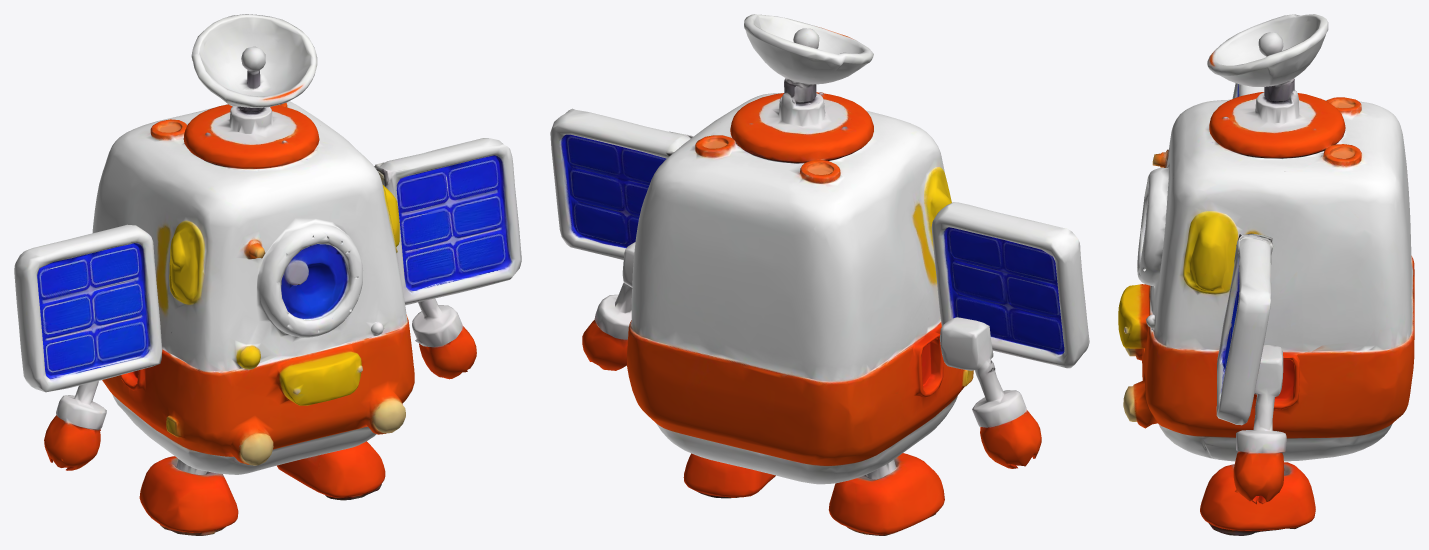
File: satellite.glb
3 renders of one model, left to right at view 1: azimuth 30°, elevation 25°; view 2: azimuth 150°, elevation 25°; view 3: azimuth 270°, elevation 25°, orthographic. The views are drawn at different scales.
Parts seen in each view (by area): view 1: tripo_node_639867a5-49e1-48cc-9dc7-7e2d49ec8046; view 2: tripo_node_639867a5-49e1-48cc-9dc7-7e2d49ec8046; view 3: tripo_node_639867a5-49e1-48cc-9dc7-7e2d49ec8046.
Part boxes in pixels (box(x1,y1,x2,y2)): tripo_node_639867a5-49e1-48cc-9dc7-7e2d49ec8046: box(14, 14, 521, 535); tripo_node_639867a5-49e1-48cc-9dc7-7e2d49ec8046: box(550, 14, 1089, 535); tripo_node_639867a5-49e1-48cc-9dc7-7e2d49ec8046: box(1118, 14, 1414, 535).
Size of the model in its own units: 1 by 0.8878 by 0.5176.
Materials: 1 (1 with a texture image).
